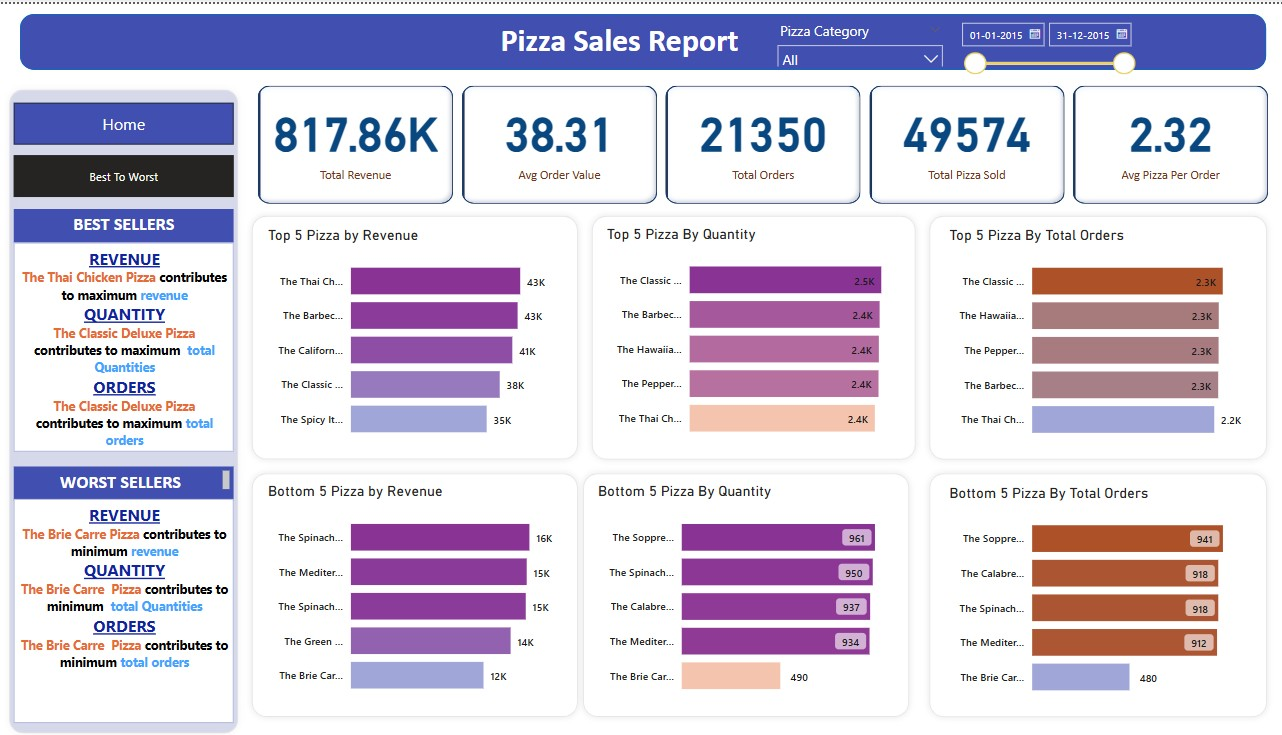

Layout of this report page (visuals, bound fields, positions):
{"tool":"powerbi","page":{"name":"Best To Worst","canvas":[1500,860],"ordinal":1},"visuals":[{"type":"shape","box":[2.9,92,283.3,768],"z":0},{"type":"cardVisual","fields":{"Data":["public final_table.Total Revenue","public final_table.Avg Order Value","public final_table.Total Orders","public final_table.Total Pizza Sold","public final_table.Avg Pizza Per Order"]},"box":[296.8,91.2,1191.5,148.4],"z":1000},{"type":"shape","box":[23.1,12.3,1455.6,65.4],"z":2000},{"type":"textbox","box":[575,15.3,296.5,58.5],"z":3000},{"type":"shape","box":[286.2,239.5,397.1,300.8],"z":4000},{"type":"textbox","box":[16.1,239.5,257,39.4],"z":5000},{"type":"textbox","box":[16.1,279.6,257.1,244.2],"z":6000},{"type":"textbox","box":[16.1,539.8,257.1,40.2],"z":7000},{"type":"textbox","box":[16.1,578.4,257.1,261.9],"z":8000},{"type":"slicer","fields":{"Values":["public final_table.pizza_category"]},"box":[898,14.6,213.2,58.4],"z":9000},{"type":"slicer","fields":{"Values":["public final_table.order_date"]},"box":[1111.1,11.7,223.4,80.3],"z":10000},{"type":"shape","box":[683.3,239.5,394.2,300.8],"z":11000},{"type":"shape","box":[1077.6,239.5,410.3,300.8],"z":12000},{"type":"shape","box":[286.2,540.2,397.1,300.8],"z":13000},{"type":"shape","box":[673.1,540.2,397.1,300.8],"z":14000},{"type":"shape","box":[1077.6,540.2,410.3,300.8],"z":15000},{"type":"clusteredBarChart","title":"Top 5 Pizza by Revenue","fields":{"Category":["public final_table.pizza_name"],"Y":["public final_table.Total Revenue"]},"box":[308.1,259.9,354.8,262.8],"z":15001},{"type":"clusteredBarChart","title":"Bottom 5 Pizza by Revenue","fields":{"Category":["public final_table.pizza_name"],"Y":["public final_table.Total Revenue"]},"box":[308.1,559.2,354.8,262.8],"z":15002},{"type":"clusteredBarChart","title":"Top 5 Pizza By Quantity","fields":{"Category":["public final_table.pizza_name"],"Y":["public final_table.Total Pizza Sold"]},"box":[703.7,258.7,355.1,263.5],"z":15003},{"type":"clusteredBarChart","title":"Bottom 5 Pizza By Quantity","fields":{"Category":["public final_table.pizza_name"],"Y":["public final_table.Total Pizza Sold"]},"box":[694.1,559.1,358.3,263.5],"z":15004},{"type":"clusteredBarChart","title":"Top 5 Pizza By Total Orders","fields":{"Category":["public final_table.pizza_name"],"Y":["public final_table.Total Orders"]},"box":[1103.8,260.3,355.1,263.5],"z":15005},{"type":"clusteredBarChart","title":"Bottom 5 Pizza By Total Orders","fields":{"Category":["public final_table.pizza_name"],"Y":["public final_table.Total Orders"]},"box":[1103.8,560.7,355.1,263.5],"z":15006},{"type":"pageNavigator","box":[16.1,115.7,257.1,49.8],"z":15007},{"type":"pageNavigator","box":[16.1,176.7,257.1,49.8],"z":15008}]}

Visuals, with their boxes in screenshot pixels (x1, y1, x2, y2), scaled from the page's 1500x860 canvas onto the 1282x735 screenshot:
shape: detection(2, 79, 245, 734)
cardVisual - public final_table.Total Revenue x public final_table.Avg Order Value: detection(254, 78, 1272, 205)
shape: detection(20, 11, 1264, 66)
textbox: detection(491, 13, 745, 63)
shape: detection(245, 205, 584, 462)
textbox: detection(14, 205, 233, 238)
textbox: detection(14, 239, 233, 448)
textbox: detection(14, 461, 233, 496)
textbox: detection(14, 494, 233, 718)
slicer - public final_table.pizza_category: detection(767, 12, 950, 62)
slicer - public final_table.order_date: detection(950, 10, 1141, 79)
shape: detection(584, 205, 921, 462)
shape: detection(921, 205, 1272, 462)
shape: detection(245, 462, 584, 719)
shape: detection(575, 462, 915, 719)
shape: detection(921, 462, 1272, 719)
"Top 5 Pizza by Revenue" clusteredBarChart: detection(263, 222, 567, 447)
"Bottom 5 Pizza by Revenue" clusteredBarChart: detection(263, 478, 567, 703)
"Top 5 Pizza By Quantity" clusteredBarChart: detection(601, 221, 905, 446)
"Bottom 5 Pizza By Quantity" clusteredBarChart: detection(593, 478, 899, 703)
"Top 5 Pizza By Total Orders" clusteredBarChart: detection(943, 222, 1247, 448)
"Bottom 5 Pizza By Total Orders" clusteredBarChart: detection(943, 479, 1247, 704)
pageNavigator: detection(14, 99, 233, 141)
pageNavigator: detection(14, 151, 233, 194)
